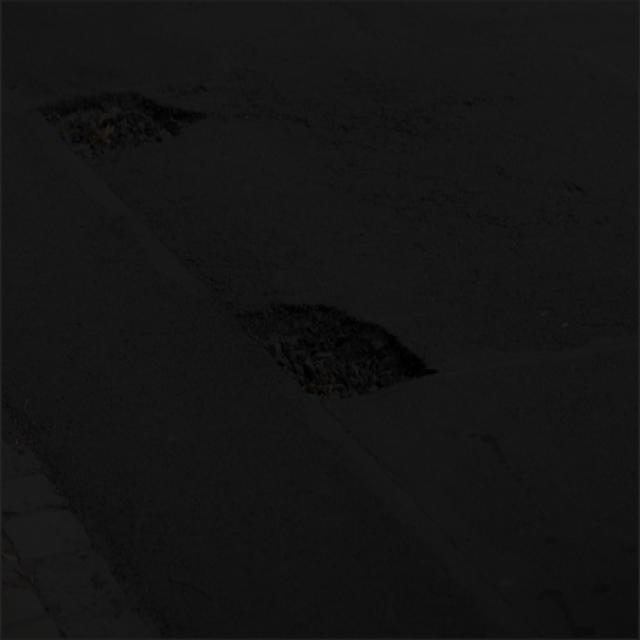pothole: (219, 256, 463, 429), (38, 75, 213, 175)
